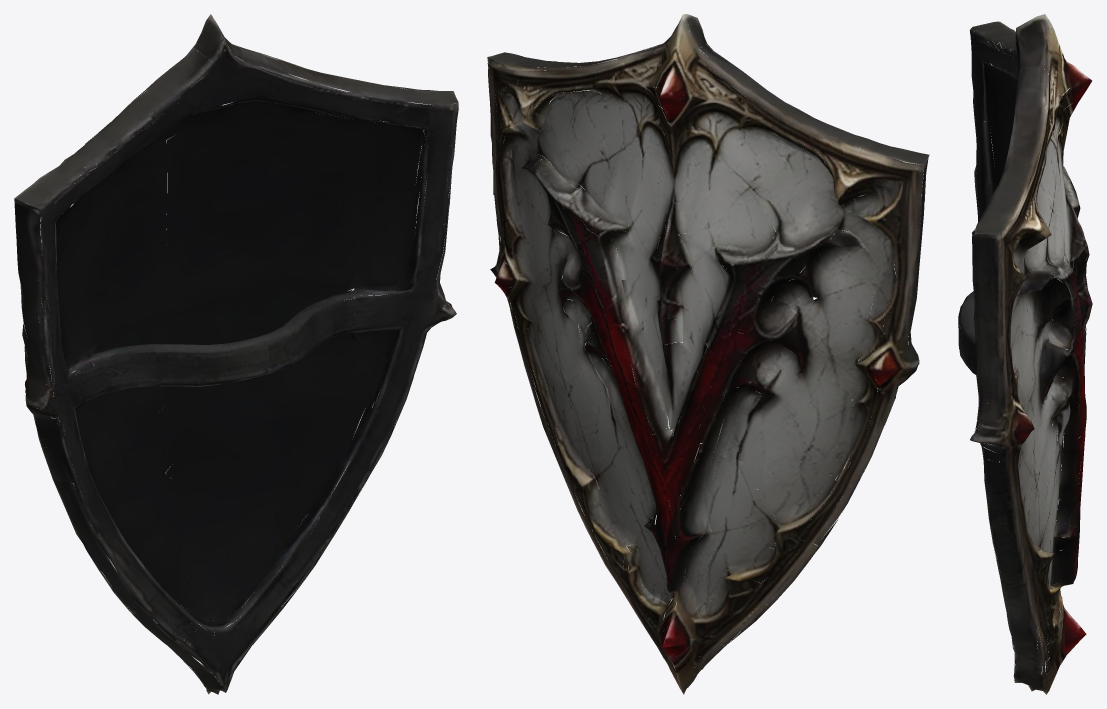
Rendered from kite_v_bone.glb.
3 views of the same model, side by side, from view 1: azimuth 30°, elevation 25°; view 2: azimuth 150°, elevation 25°; view 3: azimuth 270°, elevation 25° (orthographic).
Parts seen in each view (by area): view 1: kite_v_bone; view 2: kite_v_bone; view 3: kite_v_bone.
Boxes of the visible parts, x1,y1,x2,y2 form: kite_v_bone: (14, 14, 458, 694); kite_v_bone: (487, 14, 929, 694); kite_v_bone: (958, 14, 1092, 694).
Bounding box in the file's own units: 0.4718 × 0.6995 × 0.125.
Materials: 1 (1 with a texture image).
